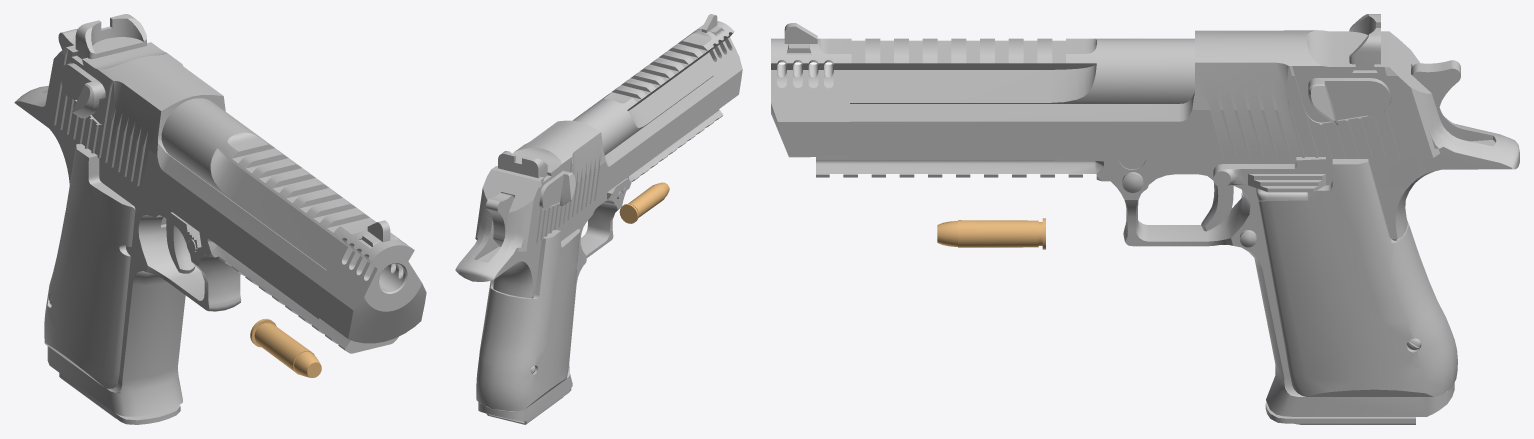
Rendered from Deagle_full.fbx.
3 renders of one model, left to right at view 1: azimuth 30°, elevation 25°; view 2: azimuth 150°, elevation 25°; view 3: azimuth 270°, elevation 25°, orthographic. The views are drawn at different scales.
Parts seen in each view (by area): view 1: Barrel_low, Slide_low, Frame_low, Grip_low, RearSight_low, Safety_low, BulletCase_low, Trigger_low, MagazineBase_low, Bullet_low, FrontSight_low, SideSwitch_low; view 2: Slide_low, Grip_low, Barrel_low, Frame_low, Safety_low, BulletCase_low, RearSight_low, Hammer_low, BackPart_low, FrontSight_low, MagazineBase_low; view 3: Slide_low, Grip_low, Barrel_low, Frame_low, SlideHolder_low, Safety_low, BulletCase_low, RearSight_low, Hammer_low, MagazineBase_low, Trigger_low, FrontSight_low.
Boxes of the visible parts, <box> form: Barrel_low: <box>161,98,426,343</box>; Slide_low: <box>43,42,326,319</box>; Frame_low: <box>14,85,398,416</box>; Grip_low: <box>44,144,135,388</box>; RearSight_low: <box>75,14,146,59</box>; Safety_low: <box>60,63,105,118</box>; BulletCase_low: <box>250,318,314,374</box>; Trigger_low: <box>166,219,195,273</box>; MagazineBase_low: <box>59,373,180,424</box>; Bullet_low: <box>294,351,321,377</box>; FrontSight_low: <box>361,220,397,246</box>; SideSwitch_low: <box>165,212,201,247</box>; Slide_low: <box>475,76,718,251</box>; Grip_low: <box>476,229,580,410</box>; Barrel_low: <box>573,21,742,155</box>; Frame_low: <box>455,109,723,421</box>; Safety_low: <box>539,170,575,209</box>; BulletCase_low: <box>619,184,665,223</box>; RearSight_low: <box>498,151,547,178</box>; Hammer_low: <box>486,193,513,246</box>; BackPart_low: <box>479,216,518,254</box>; FrontSight_low: <box>697,14,722,35</box>; MagazineBase_low: <box>487,388,571,424</box>; Slide_low: <box>850,30,1439,157</box>; Grip_low: <box>1256,159,1457,396</box>; Barrel_low: <box>771,38,1194,157</box>; Frame_low: <box>816,115,1519,416</box>; SlideHolder_low: <box>1213,157,1325,192</box>; Safety_low: <box>1308,78,1390,125</box>; BulletCase_low: <box>958,218,1045,249</box>; RearSight_low: <box>1349,14,1380,70</box>; Hammer_low: <box>1411,60,1460,113</box>; MagazineBase_low: <box>1265,401,1415,424</box>; Trigger_low: <box>1201,182,1233,231</box>; FrontSight_low: <box>784,23,817,52</box>.
Bounding box in the file's own units: 4.91 × 15.75 × 27.68.
